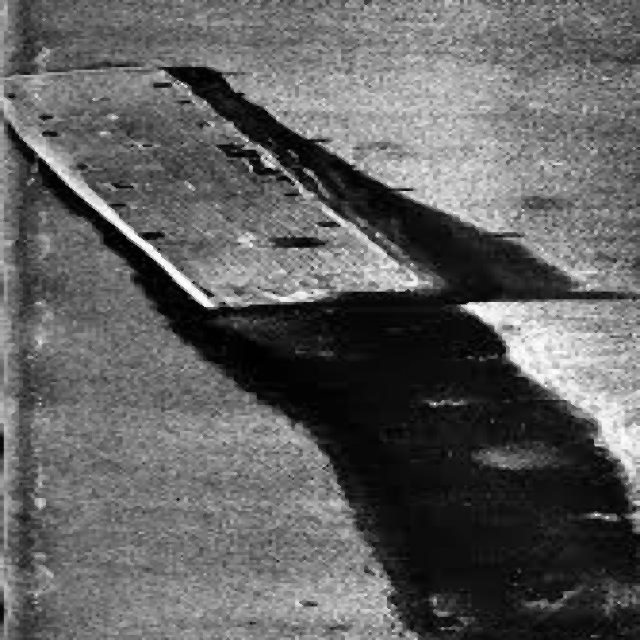Ship: (1, 46, 458, 387)
